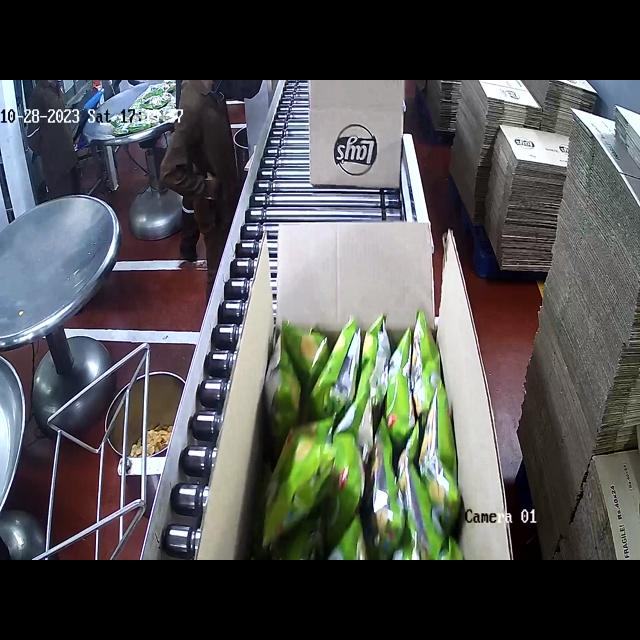yogurt: (259, 309, 462, 558)
